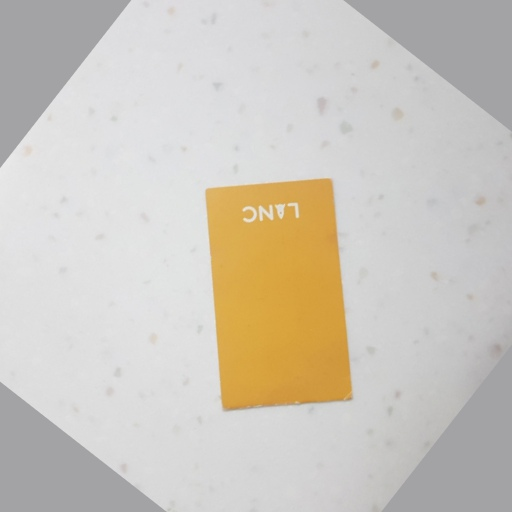Paper_2: (201, 174, 361, 415)
